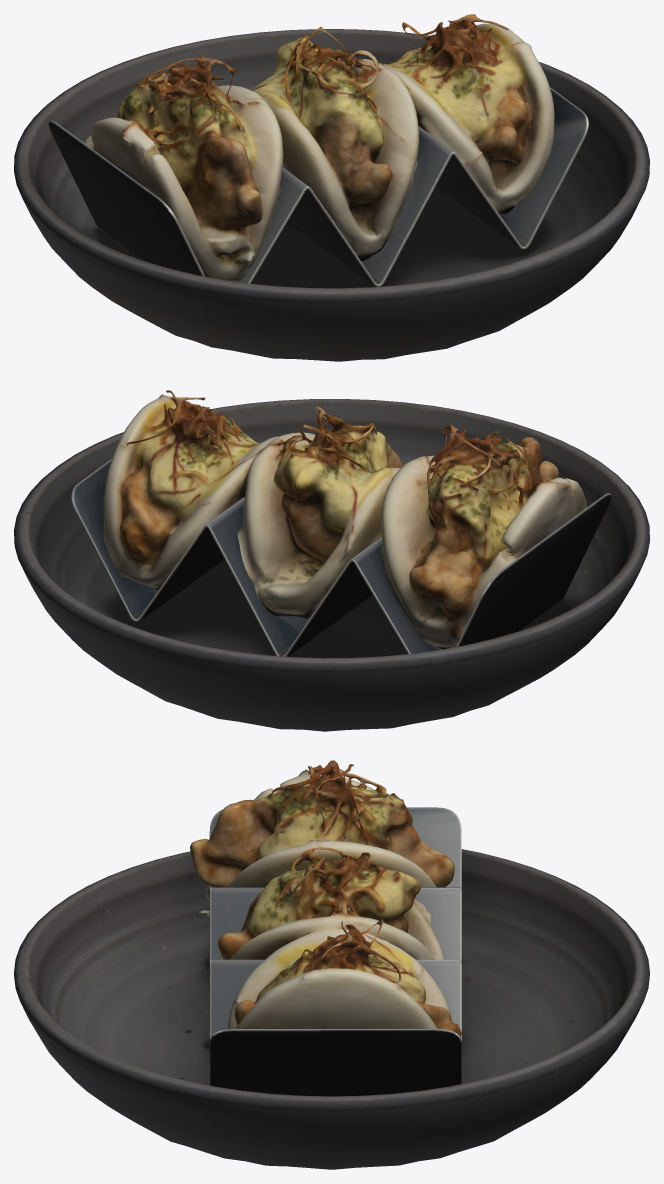
The model's file is Fried_Chicken_boa__not_square_.FBX.
3 renders of one model, top to bottom at view 1: azimuth 30°, elevation 25°; view 2: azimuth 150°, elevation 25°; view 3: azimuth 270°, elevation 25°, orthographic.
Parts seen in each view (by area): view 1: Fried Chicken boa (not square); view 2: Fried Chicken boa (not square); view 3: Fried Chicken boa (not square).
Boxes of the visible parts, box(x1,y1,x2,y2) form: Fried Chicken boa (not square): box(14, 14, 649, 361); Fried Chicken boa (not square): box(14, 390, 649, 731); Fried Chicken boa (not square): box(14, 760, 649, 1169).
Size of the model in its own units: 3.85 by 1.69 by 3.85.
Materials: 1 (1 with a texture image).
